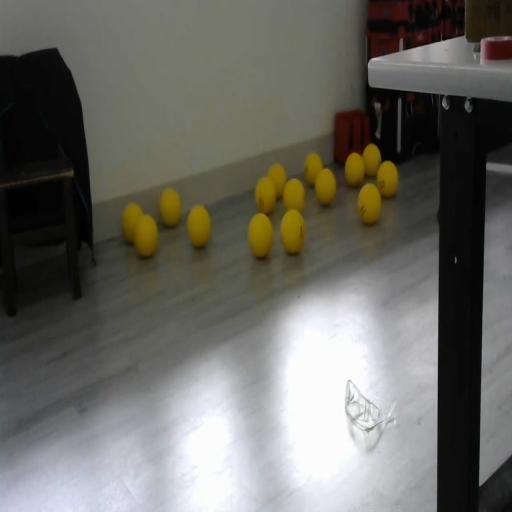FUEL: (247, 211, 274, 259), (279, 208, 305, 255), (186, 203, 212, 249), (356, 182, 382, 226), (121, 201, 144, 244), (282, 177, 306, 214), (159, 188, 181, 228), (376, 160, 398, 198), (344, 151, 364, 187), (268, 162, 286, 199), (362, 143, 381, 177), (304, 152, 322, 186)
